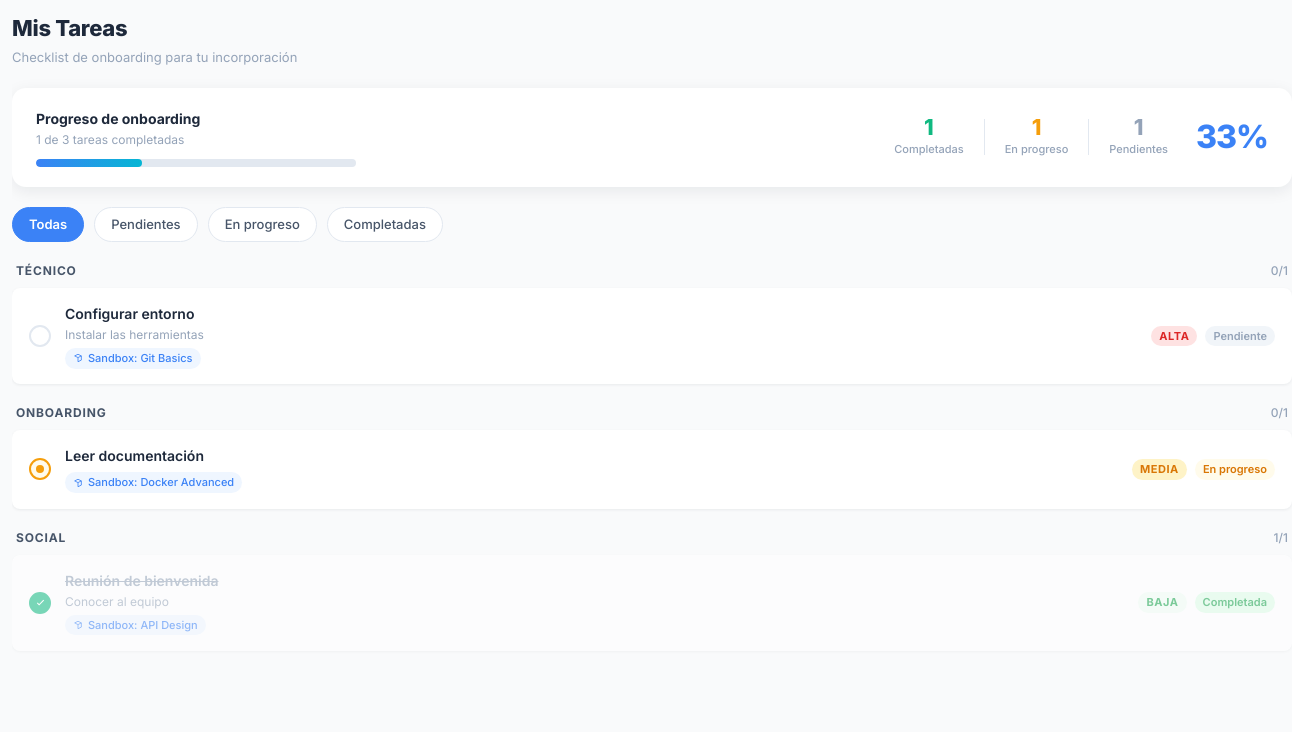
Test: Tasks › filtra para mostrar solo tareas pendientes
The width and height of the screenshot is (1292, 732).
Expected: the text "Configurar entorno" is shown, [65,305,194,322]
Click the button "Pendientes": [146, 224] box [94,206,198,242]
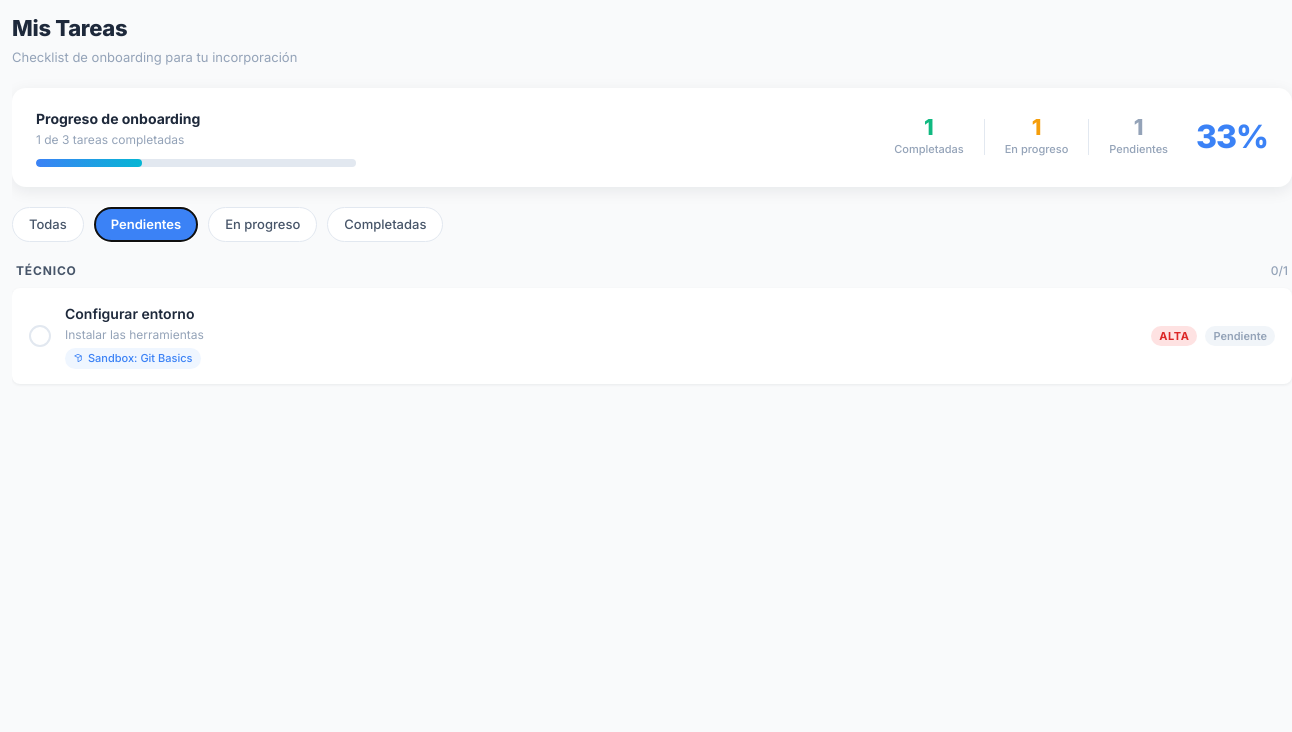
Expected: the text "Configurar entorno" is shown, [65,305,194,322]
Expected: the text "Leer documentación" is gone
Expected: the text "Reunión de bienvenida" is gone
